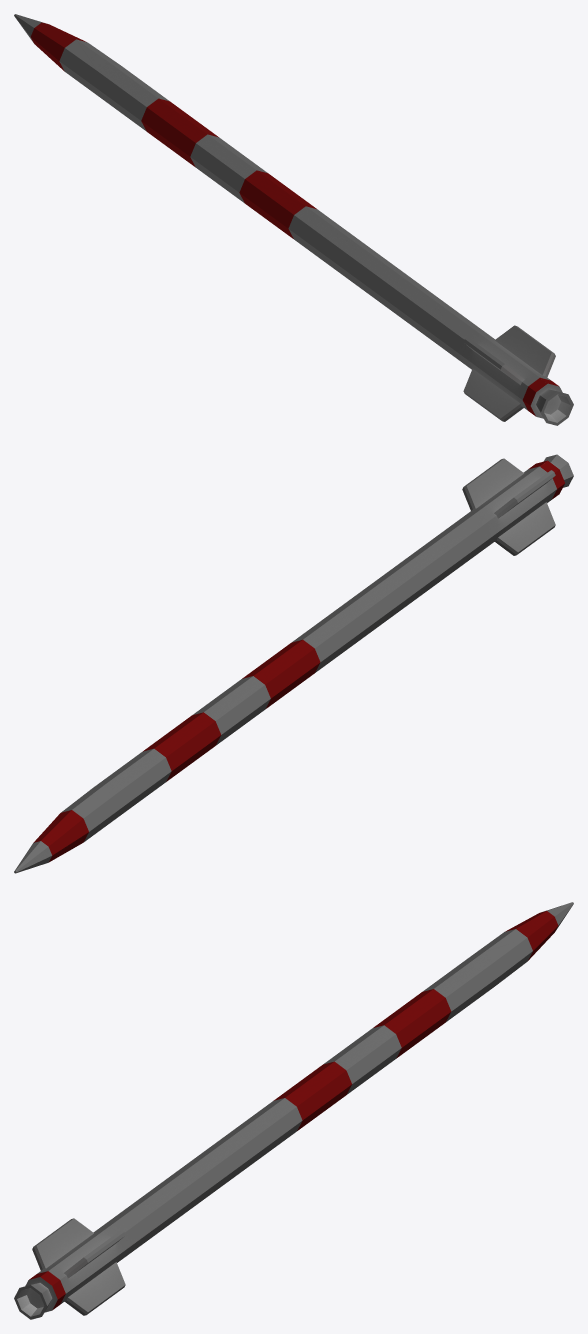
Rendered from Rocket.fbx.
3 renders of one model, top to bottom at view 1: azimuth 30°, elevation 25°; view 2: azimuth 150°, elevation 25°; view 3: azimuth 330°, elevation 25°, orthographic.
Parts seen in each view (by area): view 1: Rocket; view 2: Rocket; view 3: Rocket.
Part boxes in pixels (<box>): Rocket: <box>14,14,573,425</box>; Rocket: <box>14,454,573,873</box>; Rocket: <box>14,902,573,1319</box>.
Size of the model in its own units: 22.71 by 22.71 by 383.
